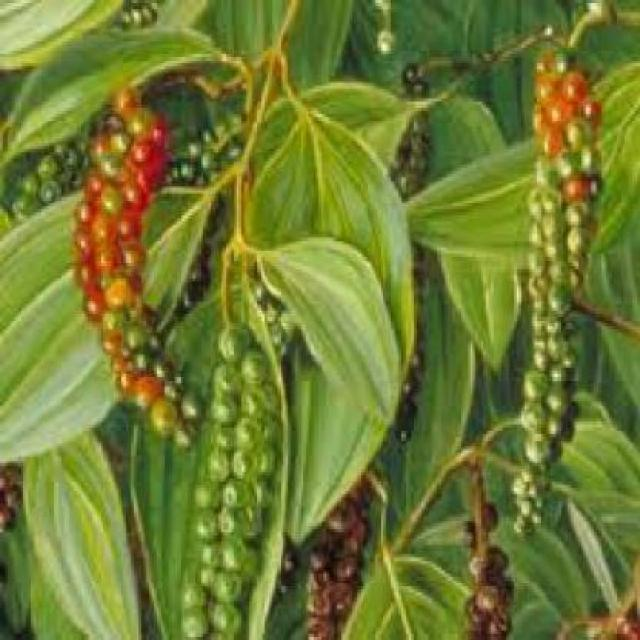RIPE: (77, 108, 168, 365), (514, 44, 598, 231)
UNRIPE: (179, 314, 270, 637)
